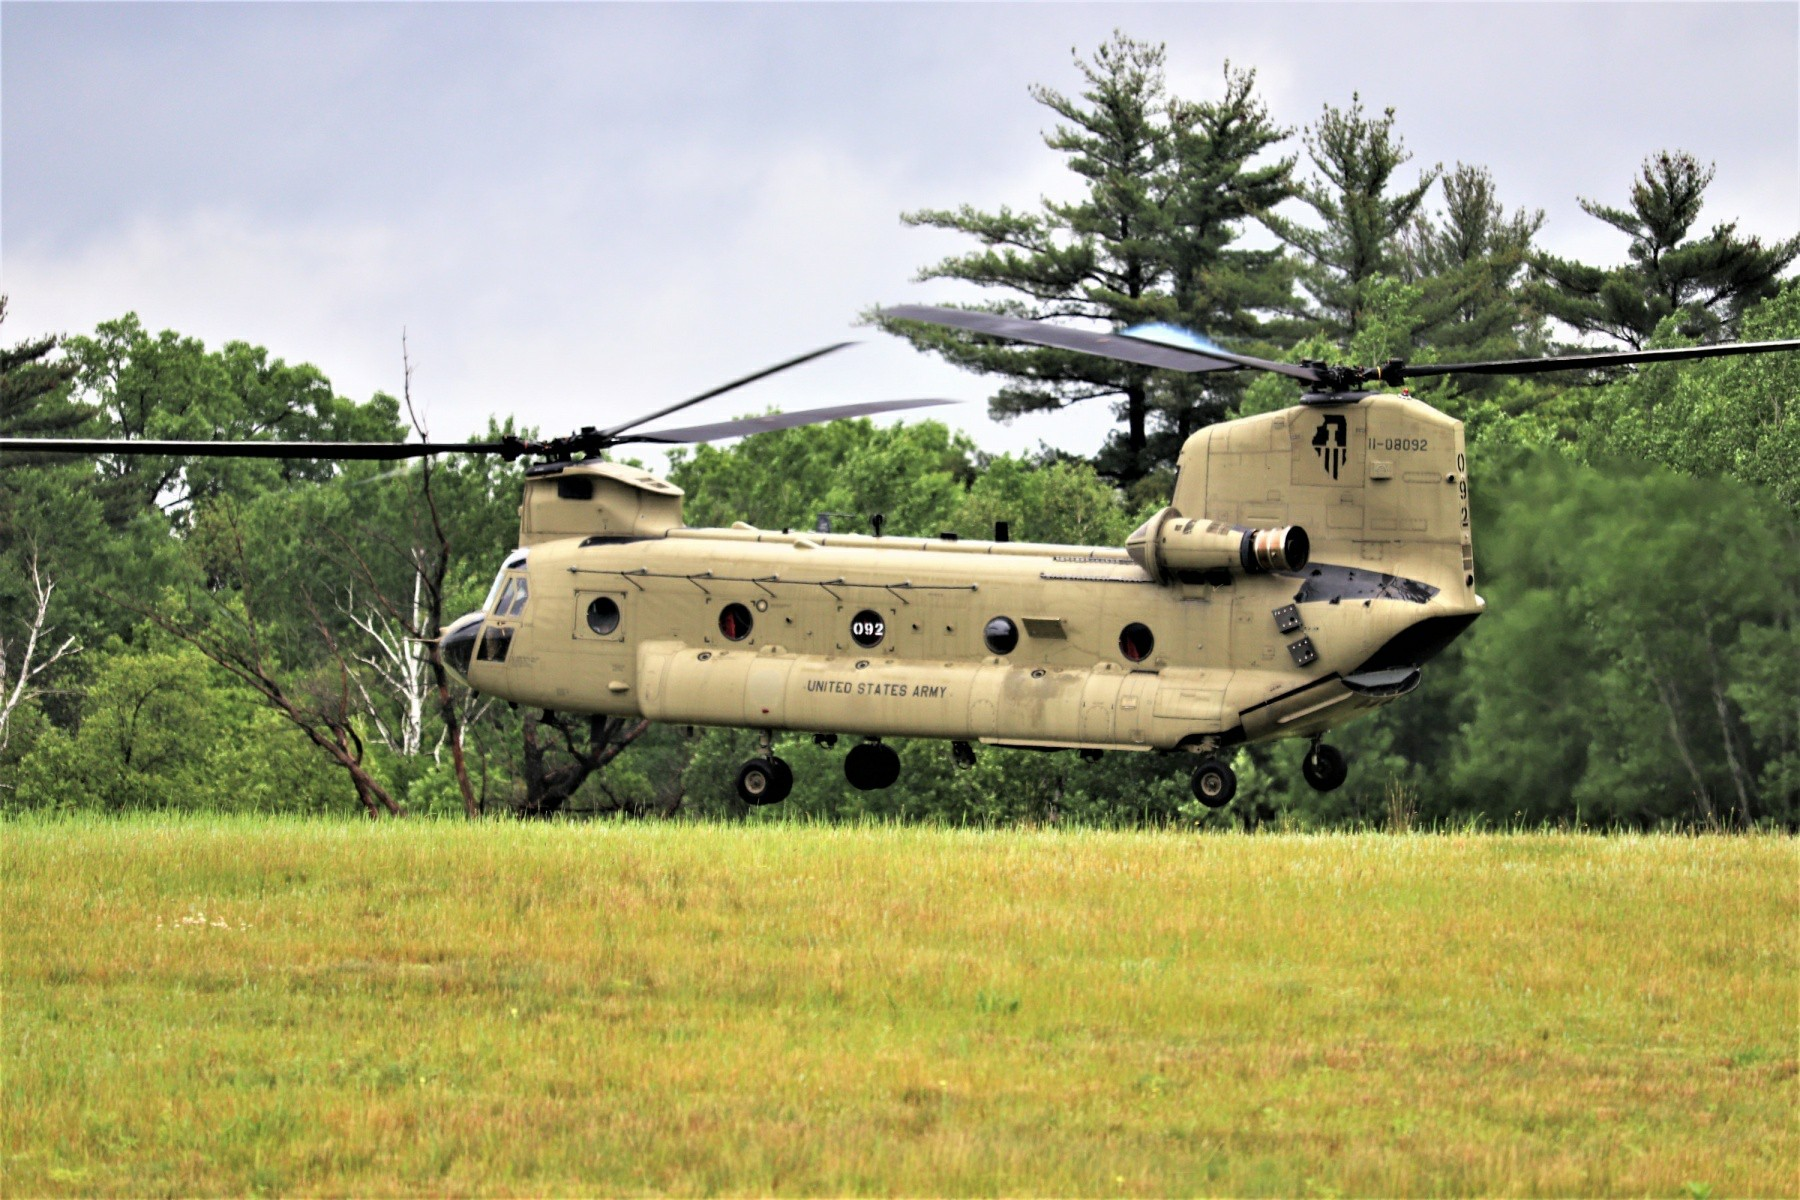chinook: (396, 283, 1505, 828)
